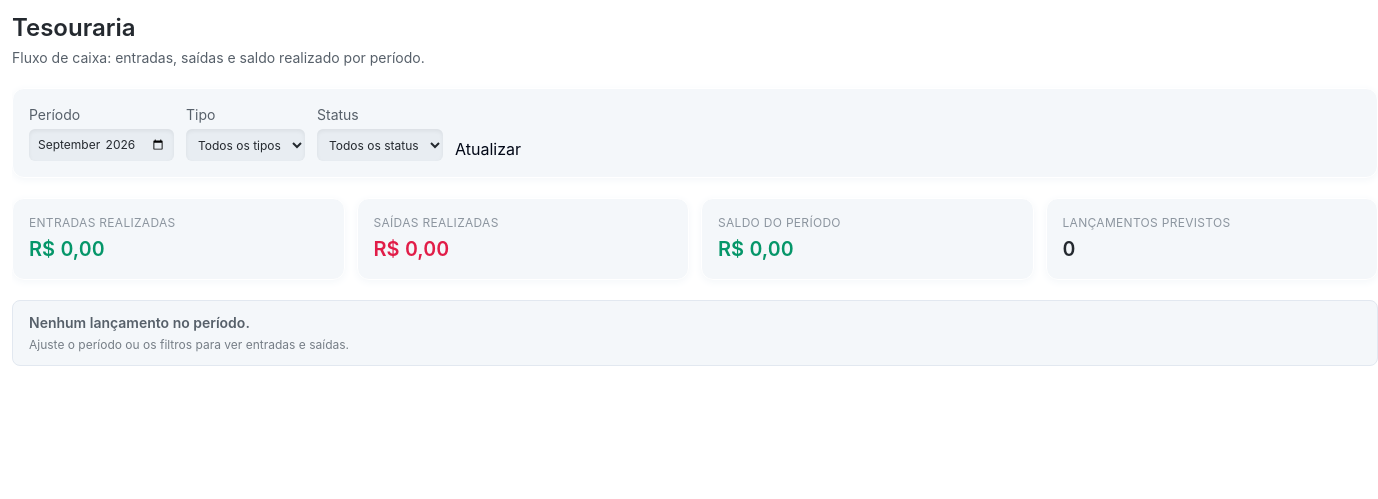
Test: TesourariaPage › renders summary totals and table when data loads
Expected: the text "Entradas realizadas" is shown, [29,215,176,230]
Note: Align the period filter with the seeded 2026-08 entries.
Step 1. Replace the text in the field labelled "Período" with "2026-08" → (102, 145), box [29,129,174,161]
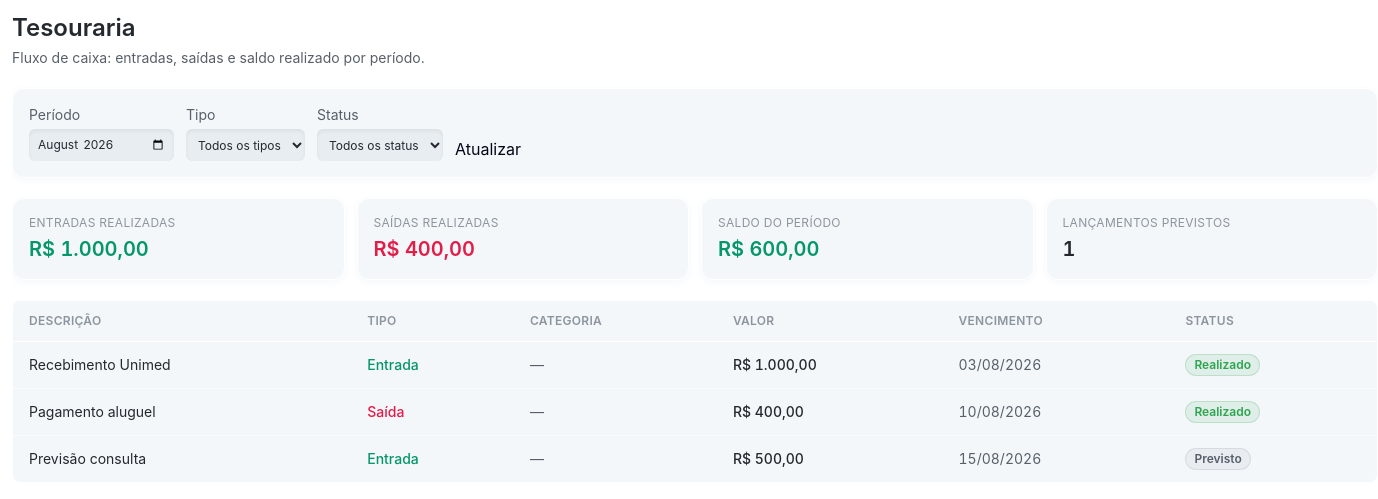
Expected: the text "Recebimento Unimed" is shown, [13,342,351,388]
Expected: the text "R$ 1.000,00" is shown, [29,237,149,261]
Expected: the text "R$ 400,00" is shown, [374,237,475,261]
